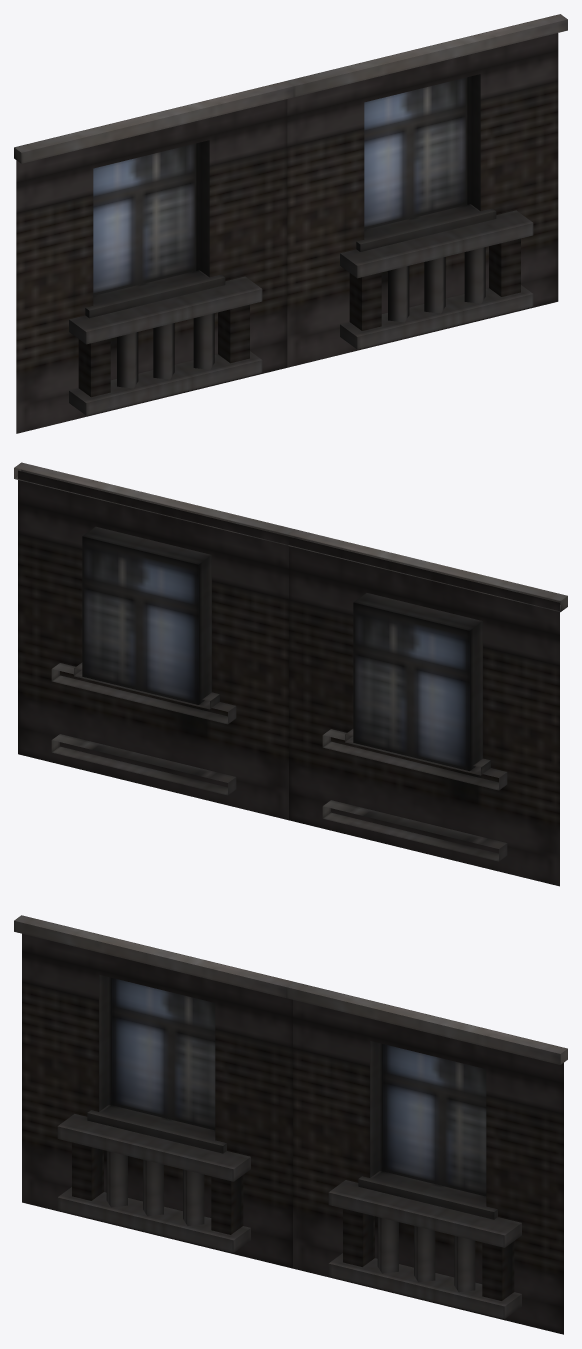
Rendered from B10_WindowB2x.FBX.
3 views of the same model, one above another, from view 1: azimuth 30°, elevation 25°; view 2: azimuth 150°, elevation 25°; view 3: azimuth 330°, elevation 25° (orthographic).
Parts seen in each view (by area): view 1: B10_WindowB2x; view 2: B10_WindowB2x; view 3: B10_WindowB2x.
Part boxes in pixels (left/top/right/bottom): B10_WindowB2x: left=14, top=14, right=567, bottom=433; B10_WindowB2x: left=14, top=462, right=567, bottom=886; B10_WindowB2x: left=14, top=915, right=567, bottom=1334.
Size of the model in its own units: 8.07 by 4.04 by 0.7787.
